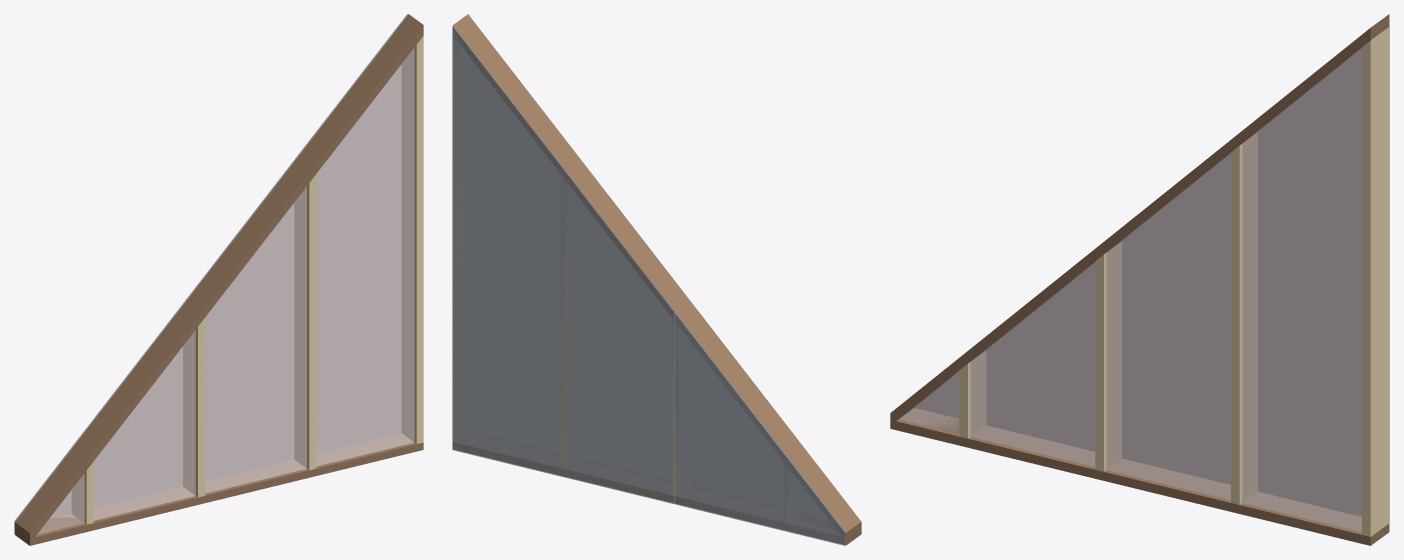
File: EX1_GBL.glb
3 views of the same model, side by side, from view 1: azimuth 30°, elevation 25°; view 2: azimuth 150°, elevation 25°; view 3: azimuth 330°, elevation 25° (orthographic). The views are drawn at different scales.
Parts seen in each view (by area): view 1: EX1 GBL; view 2: EX1 GBL; view 3: EX1 GBL.
Boxes of the visible parts, x1,y1,x2,y2 form: EX1 GBL: [14, 14, 423, 545]; EX1 GBL: [452, 14, 861, 545]; EX1 GBL: [890, 14, 1389, 545].
Size of the model in its own units: 2.12 by 2.19 by 0.149.
